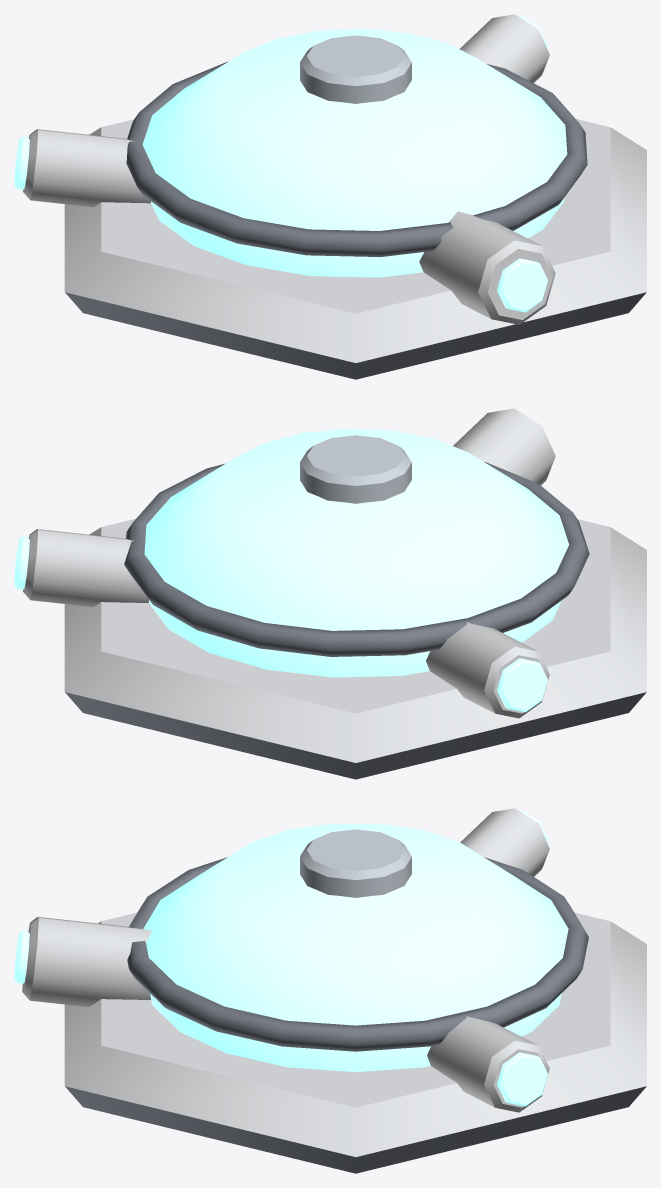
The model's file is R4D_SlowTrap.fbx.
3 renders of one model, top to bottom at view 1: azimuth 30°, elevation 25°; view 2: azimuth 150°, elevation 25°; view 3: azimuth 270°, elevation 25°, orthographic.
Parts seen in each view (by area): view 1: R4D_SlowTrap_Body; view 2: R4D_SlowTrap_Body; view 3: R4D_SlowTrap_Body.
Part boxes in pixels (x1,y1,x2,y2): R4D_SlowTrap_Body: [14, 14, 646, 379]; R4D_SlowTrap_Body: [14, 408, 646, 779]; R4D_SlowTrap_Body: [14, 808, 646, 1173].
Bounding box in the file's own units: 0.48 × 0.15 × 0.452.
